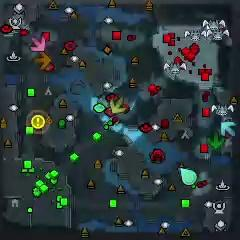Other: (31, 114, 45, 128)
p2: (179, 167, 197, 185)
x1: (30, 36, 47, 53)
x2: (109, 98, 126, 114)
x3: (220, 121, 236, 138)
x4: (207, 131, 225, 151)
x5: (33, 51, 52, 70)
